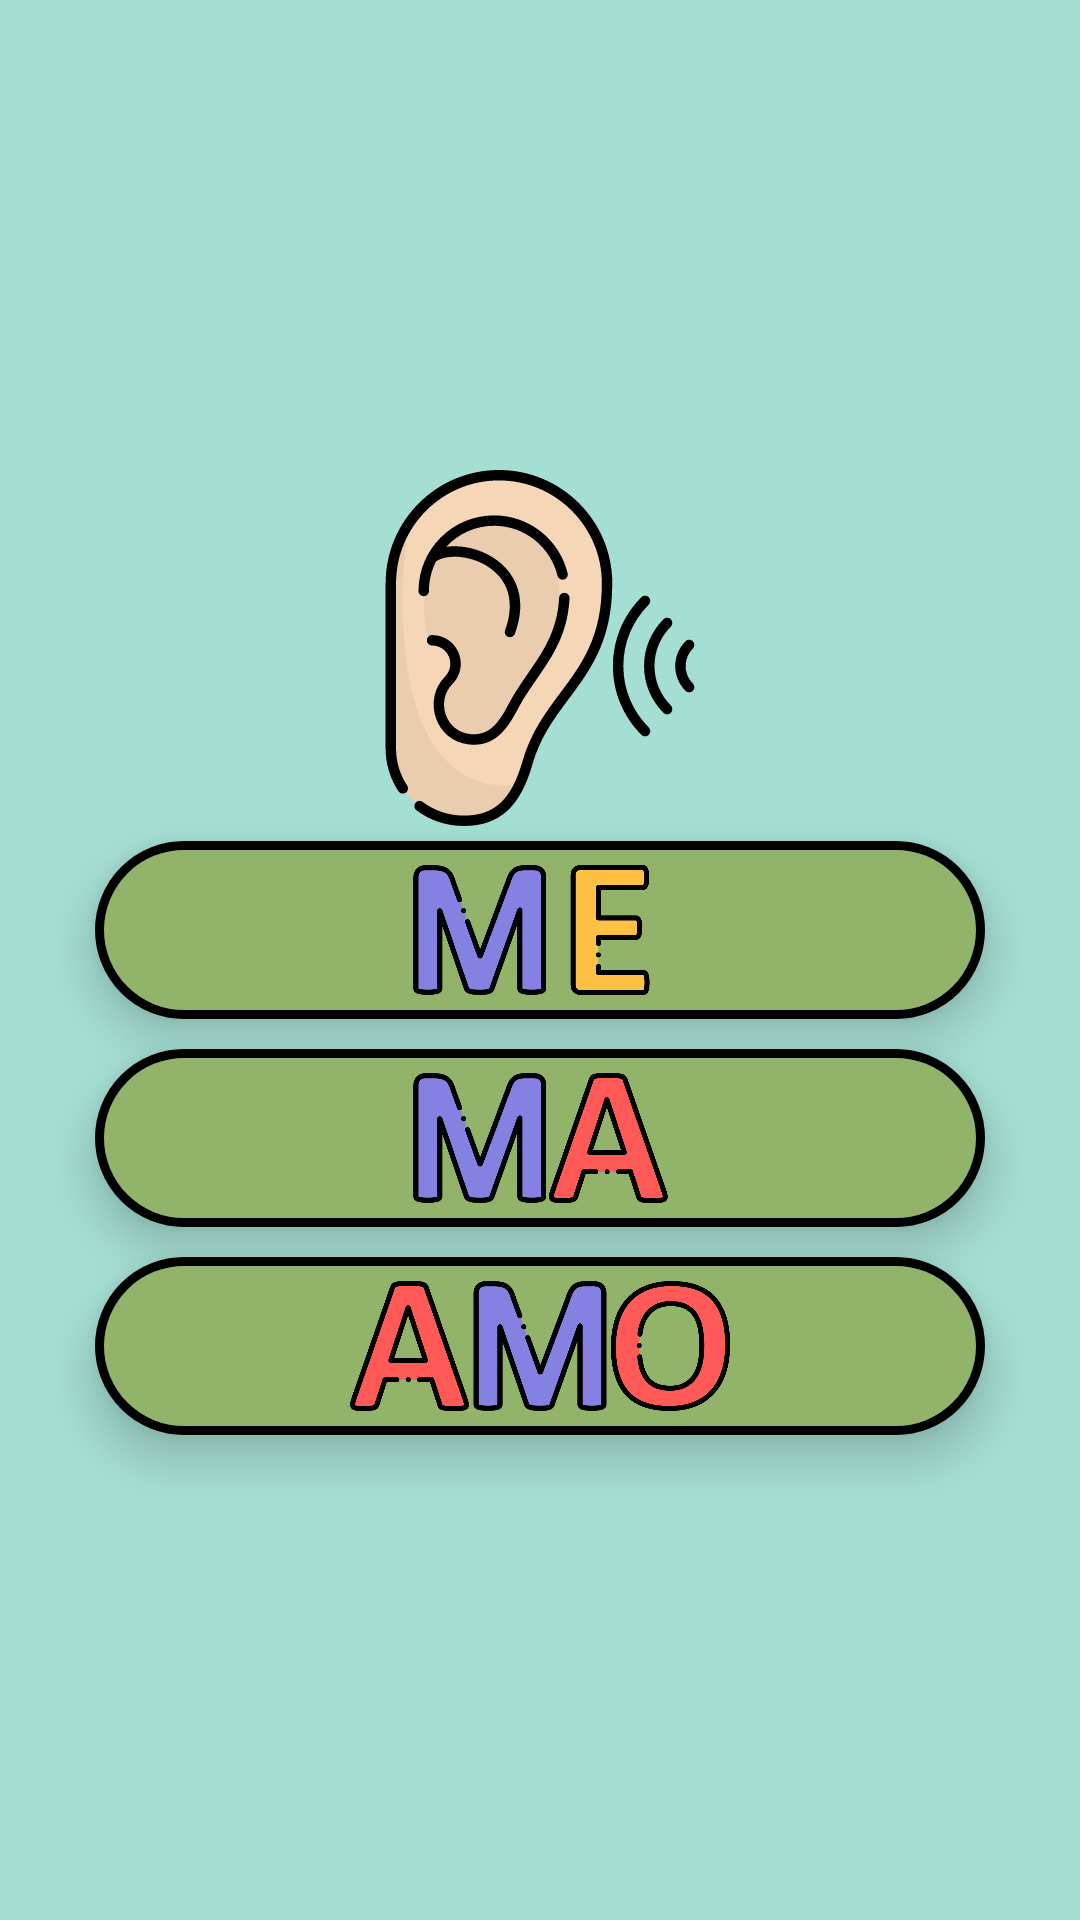

Named icons in this screenshot (1080×1920) and their centers, (x,y):
volume up: (540,648)
